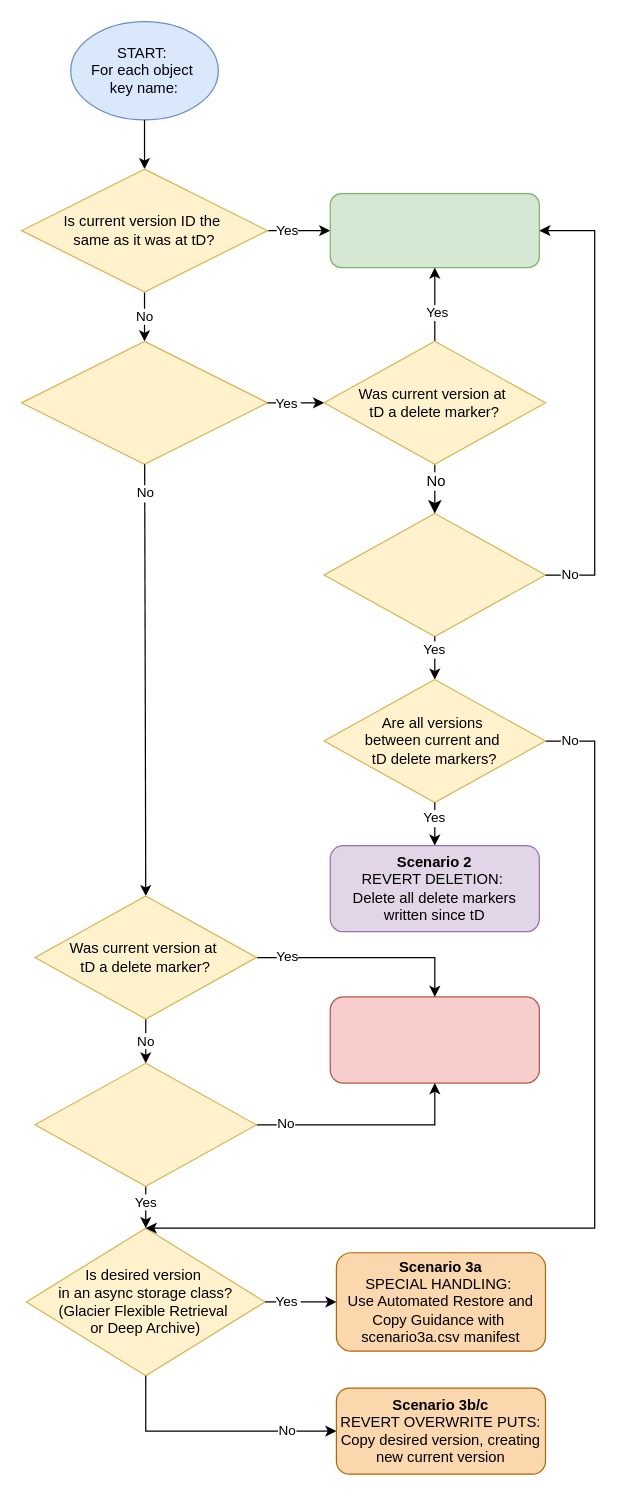
The diagram is 626 pixels wide and 1496 high, and some of its shapes have lost their labels. Here are the shapes that lost their labels. From the top down, the centre of each, then its label:
At (x=434, y=230): "FINISH: No action required".
At (x=144, y=402): "Is current version a delete marker".
At (x=434, y=574): "Did any version exist at tD?".
At (x=434, y=1039): "Scenario 1 REVERT FRESH PUTS: Add delete marker as current version".
At (x=145, y=1124): "Did a prior version exist at tD?".
